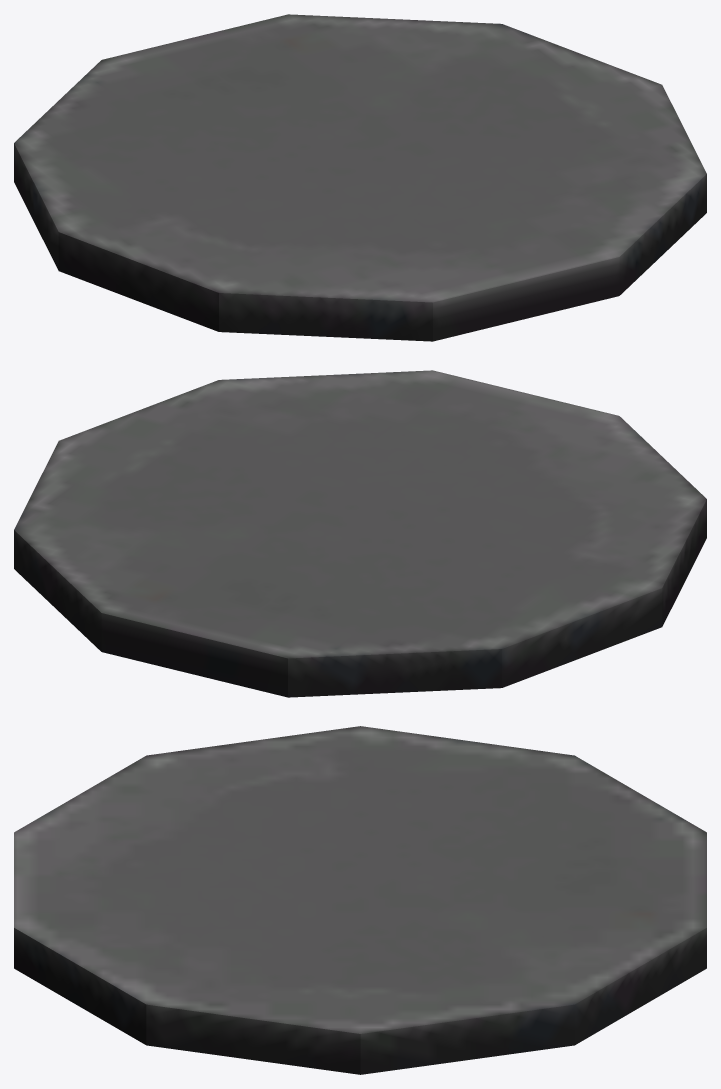
The model's file is fogon.fbx.
3 views of the same model, one above another, from view 1: azimuth 30°, elevation 25°; view 2: azimuth 150°, elevation 25°; view 3: azimuth 270°, elevation 25° (orthographic). The views are drawn at different scales.
Visible parts, largest first — view 1: fogon; view 2: fogon; view 3: fogon.
Part boxes in pixels (x1,y1,x2,y2): fogon: (14, 14, 706, 341); fogon: (14, 370, 706, 697); fogon: (14, 726, 706, 1074).
Size of the model in its own units: 27.76 by 1.72 by 26.4.
1 material, 1 textured.
